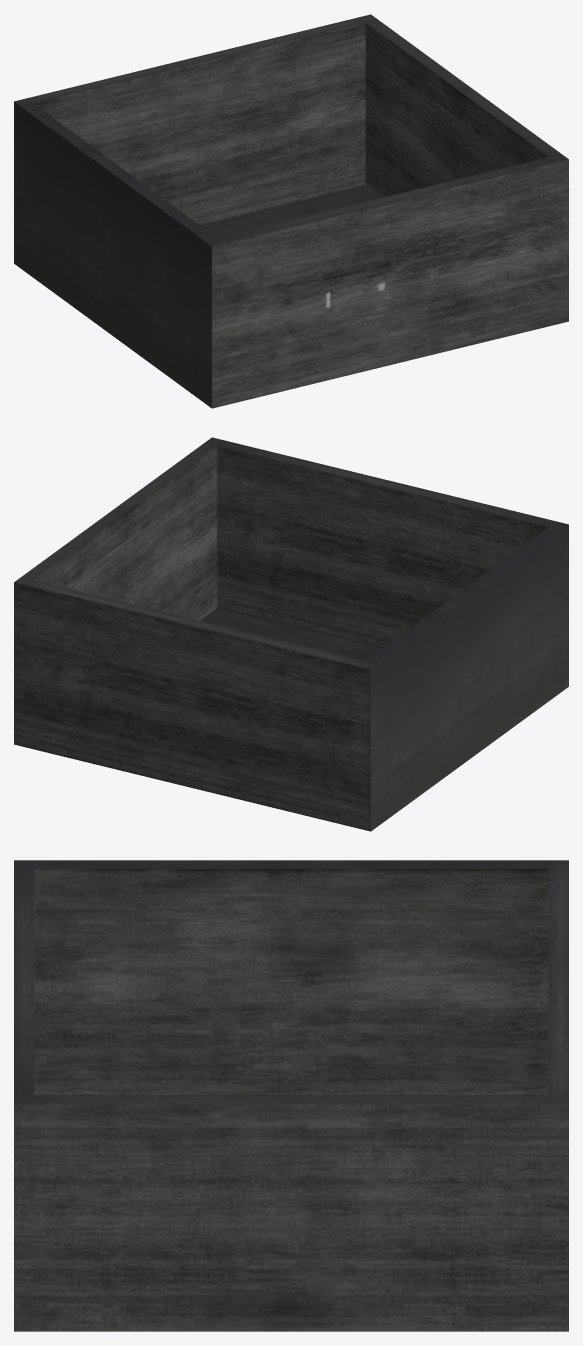
Rendered from link_1__drawer_front-25.glb.
3 views of the same model, one above another, from view 1: azimuth 30°, elevation 25°; view 2: azimuth 150°, elevation 25°; view 3: azimuth 270°, elevation 25° (orthographic). The views are drawn at different scales.
Visible parts, largest first — view 1: world; view 2: world; view 3: world.
Boxes of the visible parts, <box> form: world: <box>14,14,568,408</box>; world: <box>14,437,568,831</box>; world: <box>14,860,568,1331</box>.
Bounding box in the file's own units: 1.13 × 0.4887 × 1.08.
1 material, 1 textured.
